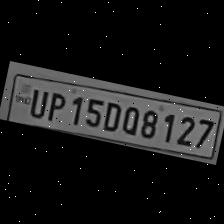1: (154, 107, 177, 144), (62, 90, 84, 126)
2: (172, 110, 196, 146)
5: (78, 92, 104, 129)
7: (190, 113, 214, 149)
8: (135, 104, 161, 139)
D: (99, 96, 122, 131)
P: (40, 86, 66, 122)
Q: (116, 100, 141, 135)
U: (22, 84, 48, 118)
